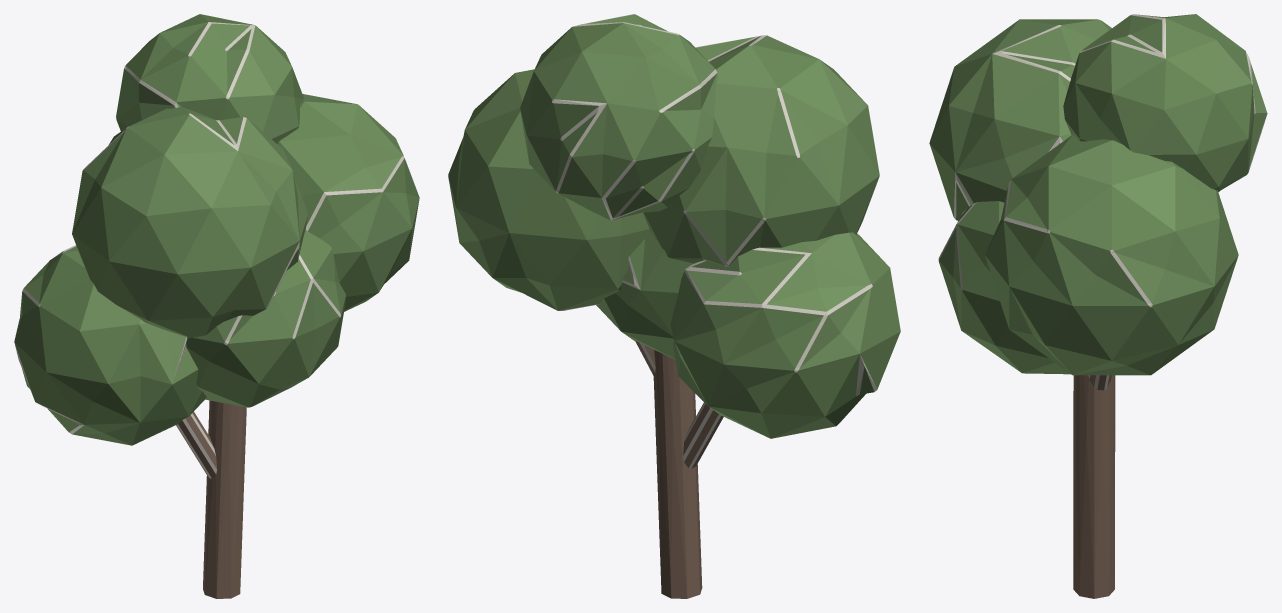
The model's file is tree.glb.
The picture shows the model from 3 angles, left to right: view 1: azimuth 30°, elevation 25°; view 2: azimuth 150°, elevation 25°; view 3: azimuth 270°, elevation 25°; orthographic projection. The views are drawn at different scales.
Parts seen in each view (by area): view 1: Body.013; view 2: Body.013; view 3: Body.013.
Part boxes in pixels (x1=…): Body.013: x1=14, y1=14, x2=419, y2=598; Body.013: x1=448, y1=14, x2=900, y2=598; Body.013: x1=929, y1=14, x2=1267, y2=598.
Bounding box in the file's own units: 2.7 × 3.7 × 1.95.
